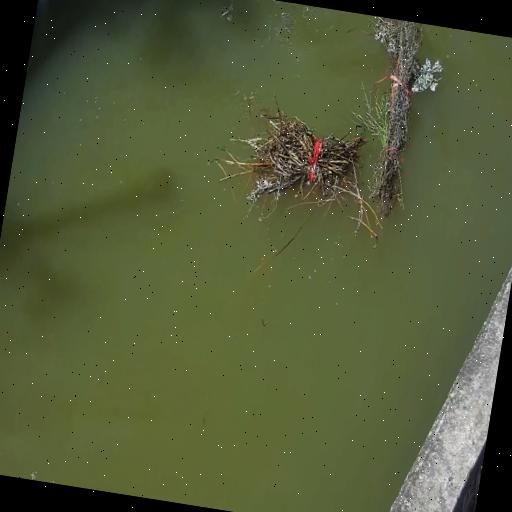twig: (345, 16, 449, 223), (239, 99, 374, 224)
